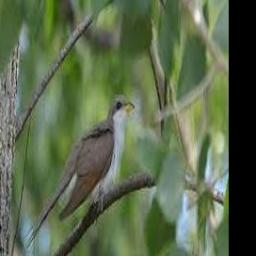Cuckoo: (24, 93, 136, 251)
